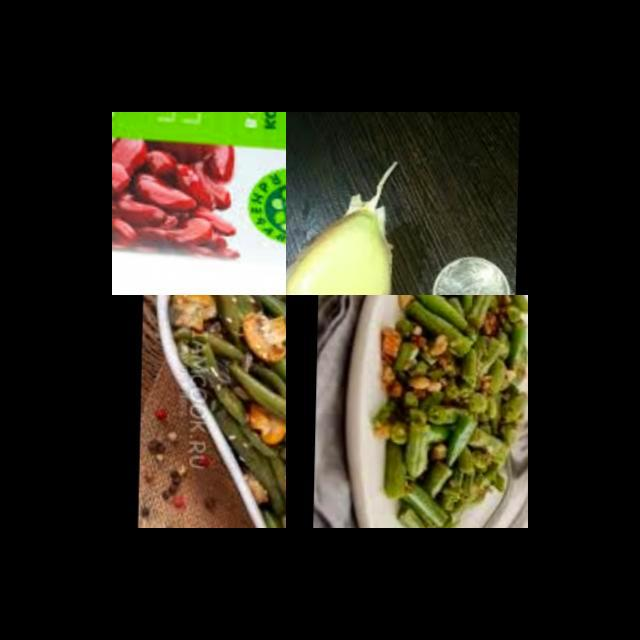garlic: (286, 161, 404, 295)
